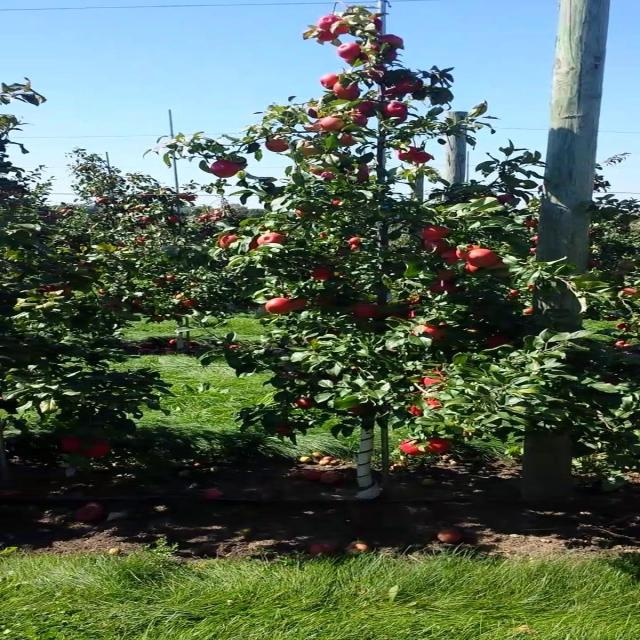apple: (212, 160, 242, 180), (84, 440, 114, 458), (412, 400, 441, 417), (426, 440, 455, 456), (319, 116, 348, 132), (468, 252, 500, 266), (362, 64, 389, 80), (412, 328, 446, 340), (397, 80, 427, 93), (333, 84, 363, 97), (483, 336, 512, 349), (404, 440, 427, 456), (269, 300, 292, 316), (340, 84, 361, 101), (340, 44, 363, 59), (355, 304, 377, 319), (426, 372, 448, 387), (490, 264, 512, 279), (383, 104, 409, 116), (262, 232, 288, 244), (426, 240, 450, 253), (42, 284, 71, 294), (426, 228, 450, 240), (269, 140, 292, 152), (63, 440, 84, 453), (319, 16, 340, 29), (312, 268, 334, 280), (319, 76, 341, 88), (412, 152, 434, 164), (433, 284, 457, 295), (305, 124, 329, 135), (490, 268, 512, 280), (490, 264, 512, 276), (383, 36, 405, 47), (355, 104, 377, 115), (348, 56, 370, 67), (220, 236, 240, 248), (440, 252, 460, 264), (319, 32, 340, 43), (383, 88, 404, 99), (369, 16, 384, 31), (333, 20, 348, 35), (461, 244, 484, 253), (291, 300, 308, 312), (433, 242, 450, 253), (305, 144, 320, 156), (340, 136, 356, 147), (390, 116, 411, 124), (335, 24, 350, 35), (383, 52, 398, 63), (348, 408, 368, 416), (604, 376, 620, 386), (312, 108, 325, 120), (319, 296, 336, 305), (355, 116, 370, 126), (618, 340, 633, 350), (404, 296, 420, 305), (298, 400, 315, 408), (497, 196, 514, 204), (276, 428, 293, 436), (440, 272, 455, 281), (404, 312, 420, 320), (468, 264, 480, 274), (525, 220, 540, 228), (348, 236, 363, 244), (627, 288, 639, 298), (369, 44, 382, 53), (397, 152, 411, 160), (312, 168, 324, 176), (326, 172, 336, 180), (525, 308, 535, 316), (348, 240, 363, 245), (412, 148, 421, 156), (255, 240, 263, 248), (298, 208, 306, 216), (333, 200, 341, 207), (532, 248, 540, 254), (362, 168, 370, 172), (319, 236, 327, 240)
